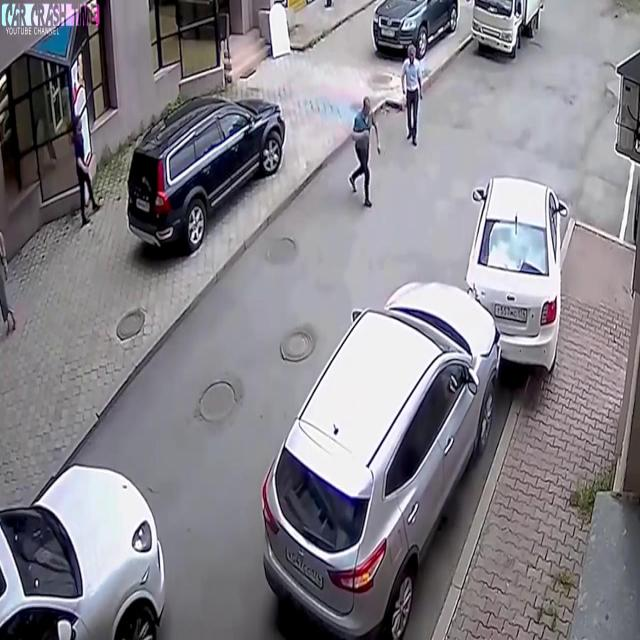accident: (260, 155, 571, 640)
